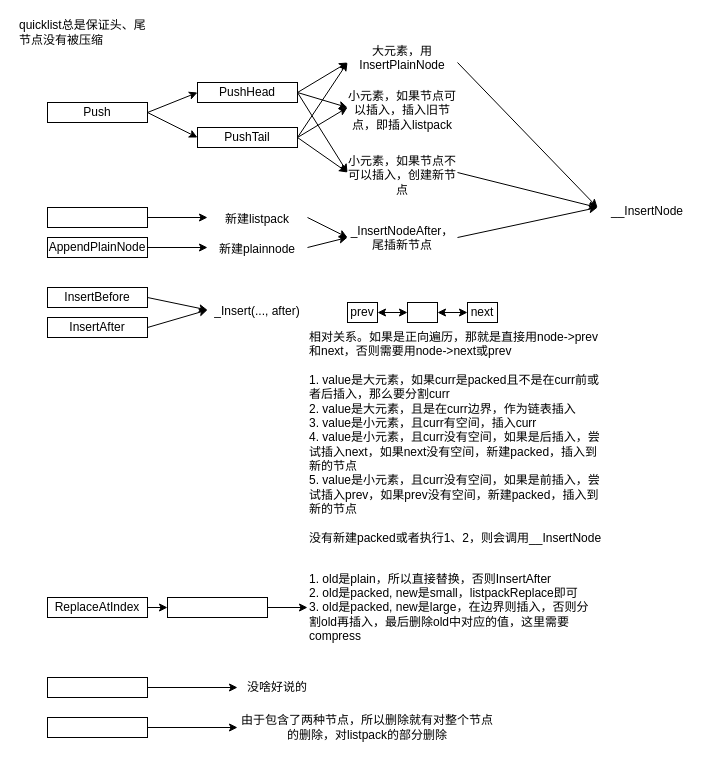
Image size: 714x759. Some labels were removed from this diagram. Here are the shapes that lost their labels. From the top down, the centre of each, then its label:
At point 97,217: "AppendListpack".
At point 422,312: "curr".
At point 217,607: "ReplaceEntry".
At point 97,687: "DelEntry".
At point 97,727: "DelRange".
